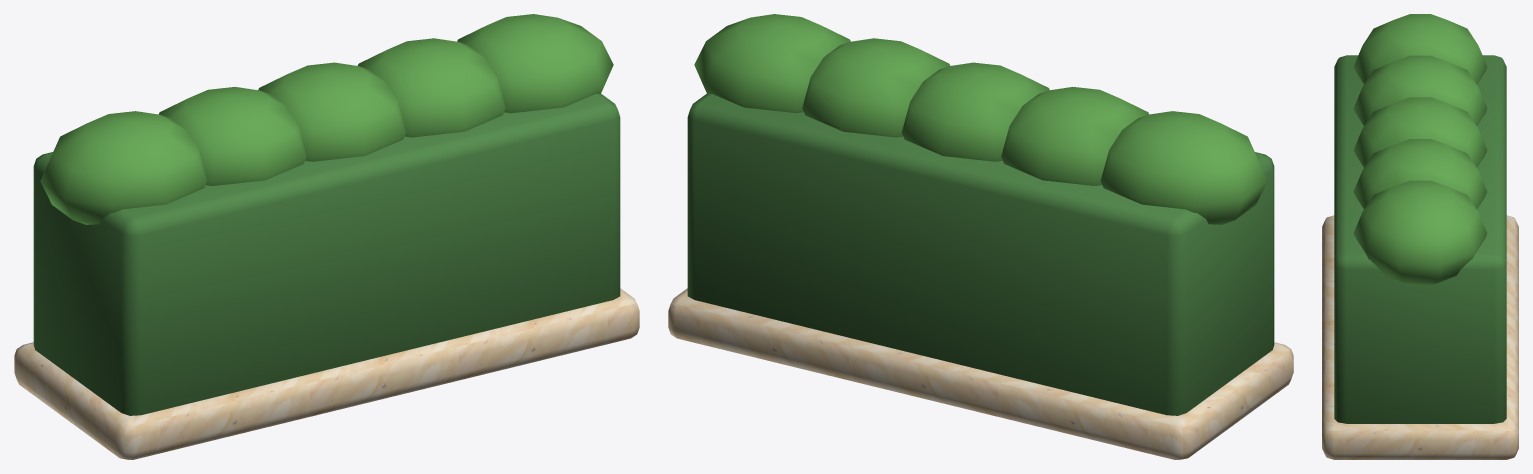
Rendered from hedge.gltf.
3 views of the same model, side by side, from view 1: azimuth 30°, elevation 25°; view 2: azimuth 150°, elevation 25°; view 3: azimuth 270°, elevation 25° (orthographic). The views are drawn at different scales.
Parts seen in each view (by area): view 1: hedge; view 2: hedge; view 3: hedge.
Part boxes in pixels (left/top/right/bottom): hedge: left=14, top=14, right=639, bottom=459; hedge: left=668, top=14, right=1293, bottom=459; hedge: left=1322, top=14, right=1518, bottom=459.
Bounding box in the file's own units: 2.21 × 1.11 × 0.8.
Materials: 2 (2 with a texture image).
